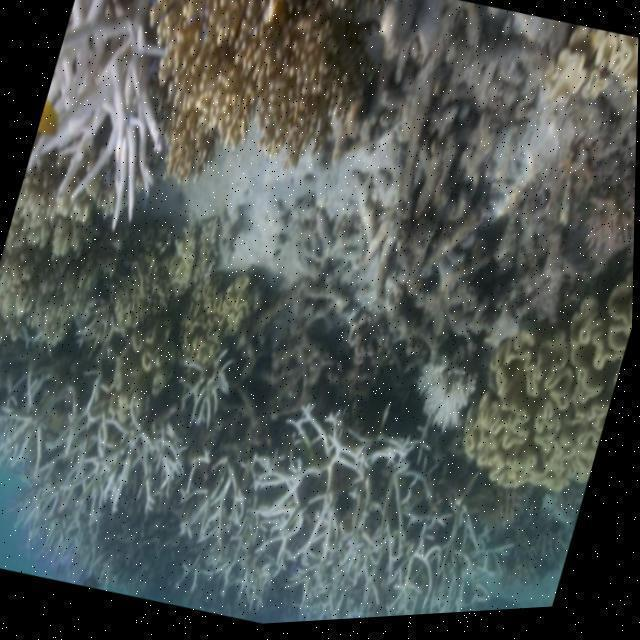Bleached Coral: (58, 371, 534, 626), (20, 0, 211, 239), (393, 335, 497, 454)
Healthy Coral: (0, 210, 280, 403), (184, 0, 384, 178)
